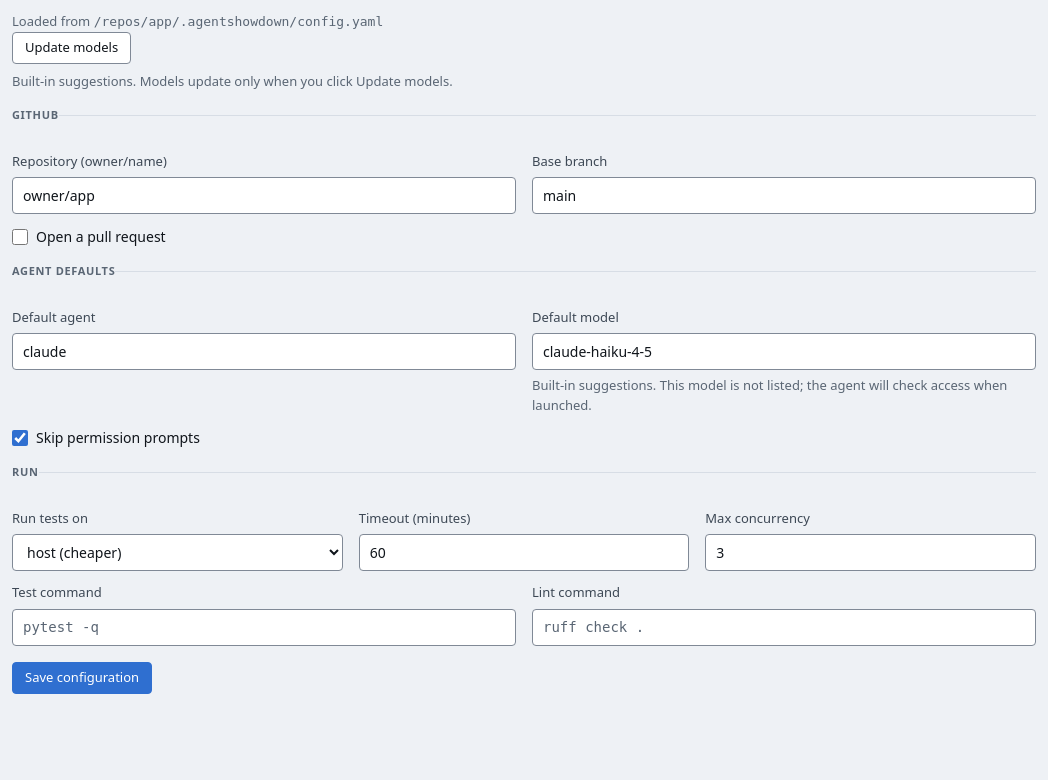
Test: ConfigEditor › saves the edited values
Type "develop" into the field labelled "Base branch" at (784, 196), box top-left (532, 177), bottom-right (1036, 214)
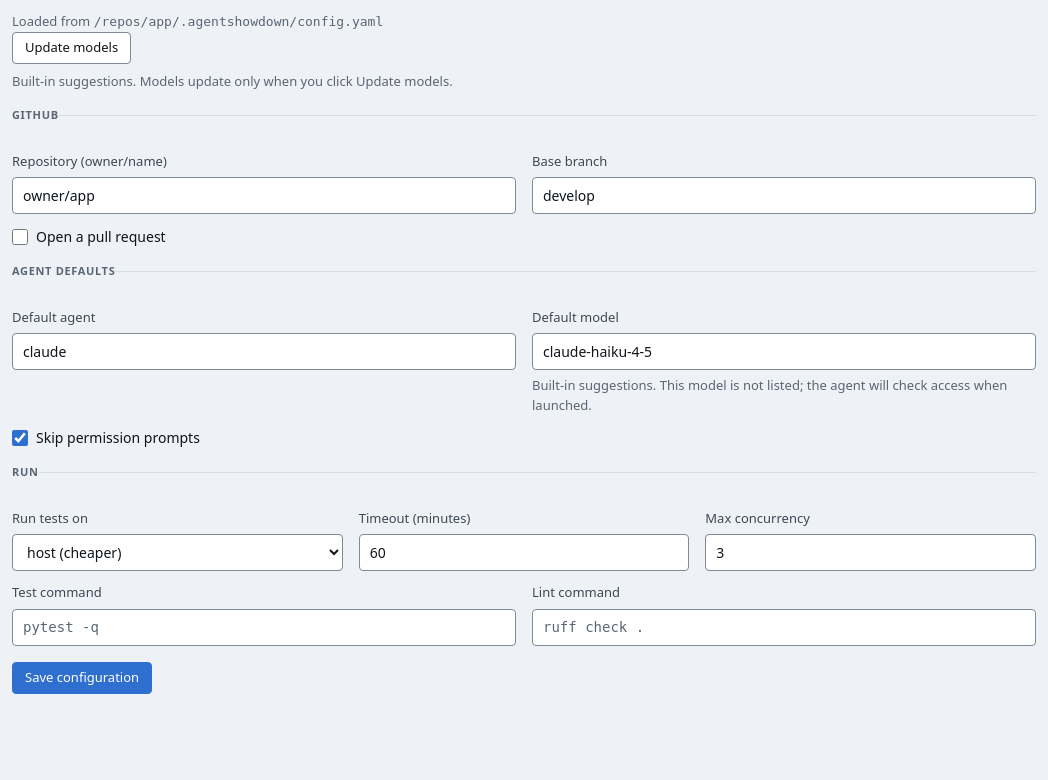
Submit the form named "save configuration"
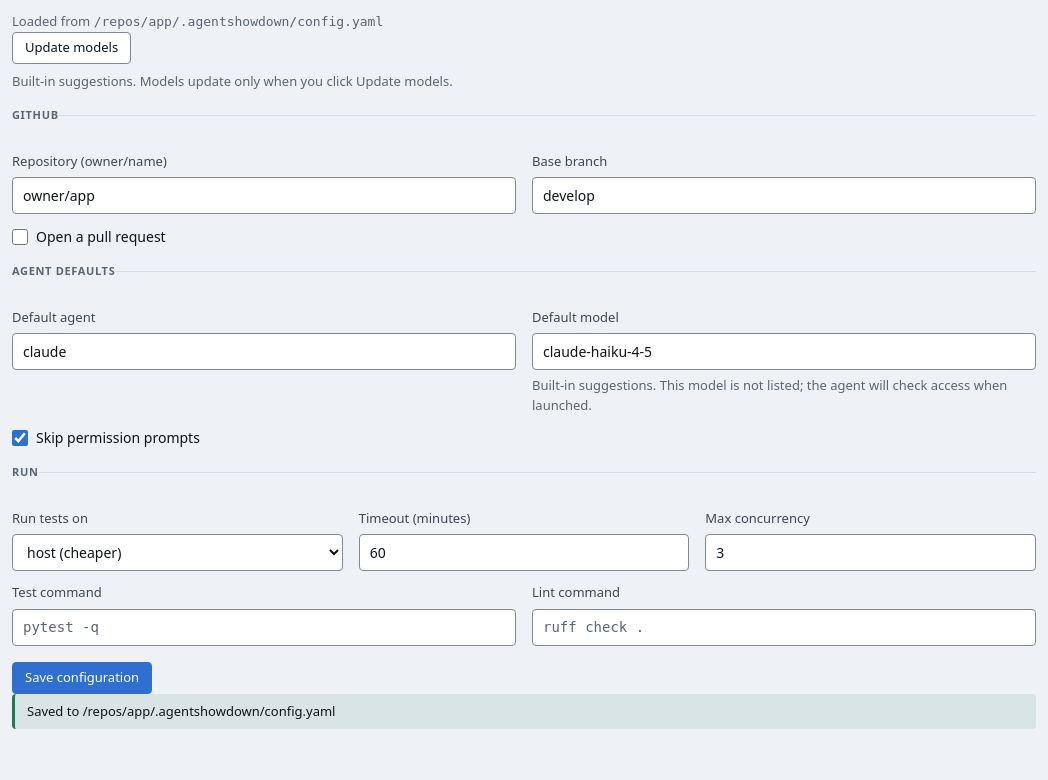
Now the message "Saved to /repos/app/.agentshowdown/config.yaml" is shown, box top-left (12, 694), bottom-right (1036, 729)
